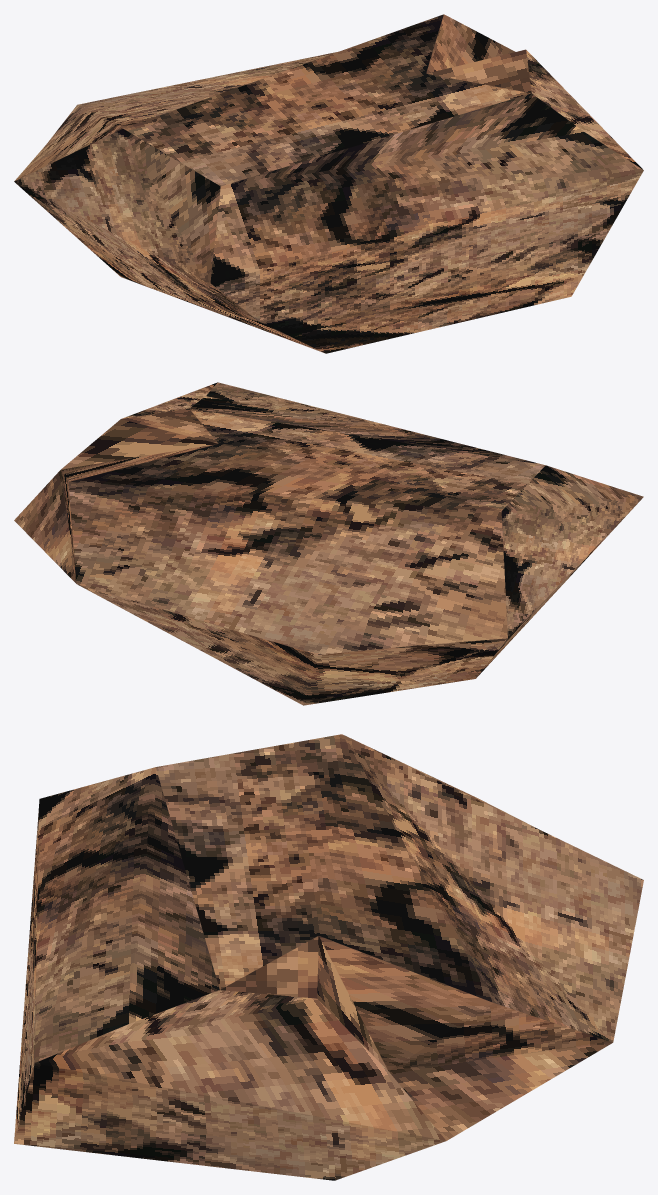
The model's file is stage-gran-p4-6.glb.
3 renders of one model, top to bottom at view 1: azimuth 30°, elevation 25°; view 2: azimuth 150°, elevation 25°; view 3: azimuth 270°, elevation 25°, orthographic. The views are drawn at different scales.
Bounding box in the file's own units: 20.67 × 6.27 × 16.9.
Materials: 1 (1 with a texture image).
